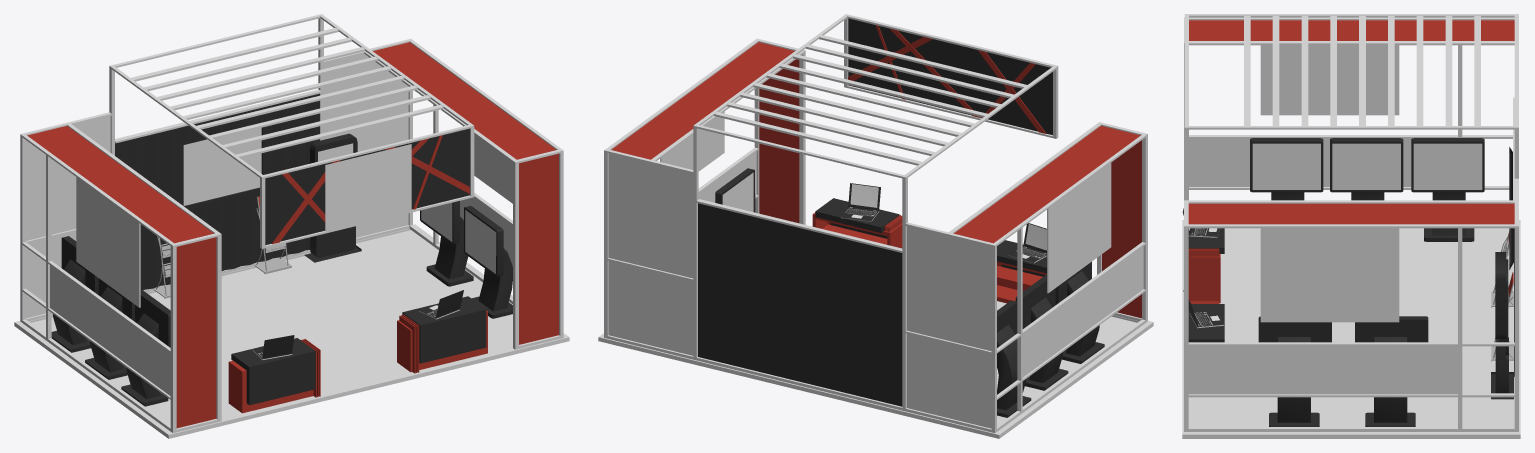
File: Expo2_Booth1_Final_Reto1.fbx
3 views of the same model, side by side, from view 1: azimuth 30°, elevation 25°; view 2: azimuth 150°, elevation 25°; view 3: azimuth 270°, elevation 25° (orthographic). The views are drawn at different scales.
Parts seen in each view (by area): view 1: Plane, Cube.001, Plane.020, Plane.007, Cube, Plane.005, Plane.019, Plane.018, Plane.001, Plane.010, Plane.025, Plane.016 (+16 smaller); view 2: Plane.006, Cube.001, Plane.017, Plane.005, Cube, Plane.019, Plane.009, Plane.018, Plane.010, Plane.025, Plane.020, Plane (+12 smaller); view 3: Plane, Cube.001, Plane.029, Plane.003, Plane.025, Cube, Plane.018, Plane.024, Plane.010, Plane.032, Plane.028, Plane.027 (+8 smaller).
Part boxes in pixels (box(x1,y1,x2,y2)): Plane: box(14, 224, 569, 438); Cube.001: box(20, 14, 563, 433); Plane.020: box(176, 154, 558, 428); Plane.007: box(115, 93, 319, 290); Cube: box(131, 27, 443, 158); Plane.005: box(26, 54, 408, 280); Plane.019: box(265, 128, 469, 245); Plane.018: box(97, 91, 555, 243); Plane.001: box(325, 144, 411, 232); Plane.010: box(27, 42, 483, 192); Plane.025: box(76, 177, 140, 307); Plane.016: box(179, 120, 266, 209); Plane.006: box(698, 203, 902, 406); Cube.001: box(604, 14, 1147, 432); Plane.017: box(608, 153, 991, 417); Plane.005: box(608, 243, 991, 428); Cube: box(714, 35, 1026, 165); Plane.019: box(848, 18, 1052, 134); Plane.009: box(759, 79, 1141, 318); Plane.018: box(680, 42, 1140, 195); Plane.010: box(611, 97, 1067, 243); Plane.025: box(1047, 163, 1111, 293); Plane.020: box(759, 59, 799, 223); Plane: box(598, 301, 1153, 438); Plane: box(1182, 220, 1520, 438); Cube.001: box(1184, 14, 1518, 431); Plane.029: box(1260, 228, 1399, 322); Plane.003: box(1189, 139, 1457, 394); Plane.025: box(1260, 45, 1399, 115); Cube: box(1244, 16, 1480, 125); Plane.018: box(1188, 20, 1386, 224); Plane.024: box(1188, 139, 1411, 394); Plane.010: box(1338, 20, 1514, 224); Plane.032: box(1411, 138, 1484, 241); Plane.028: box(1330, 138, 1403, 200); Plane.027: box(1250, 138, 1323, 200).
Bounding box in the file's own units: 900 × 510 × 600.
